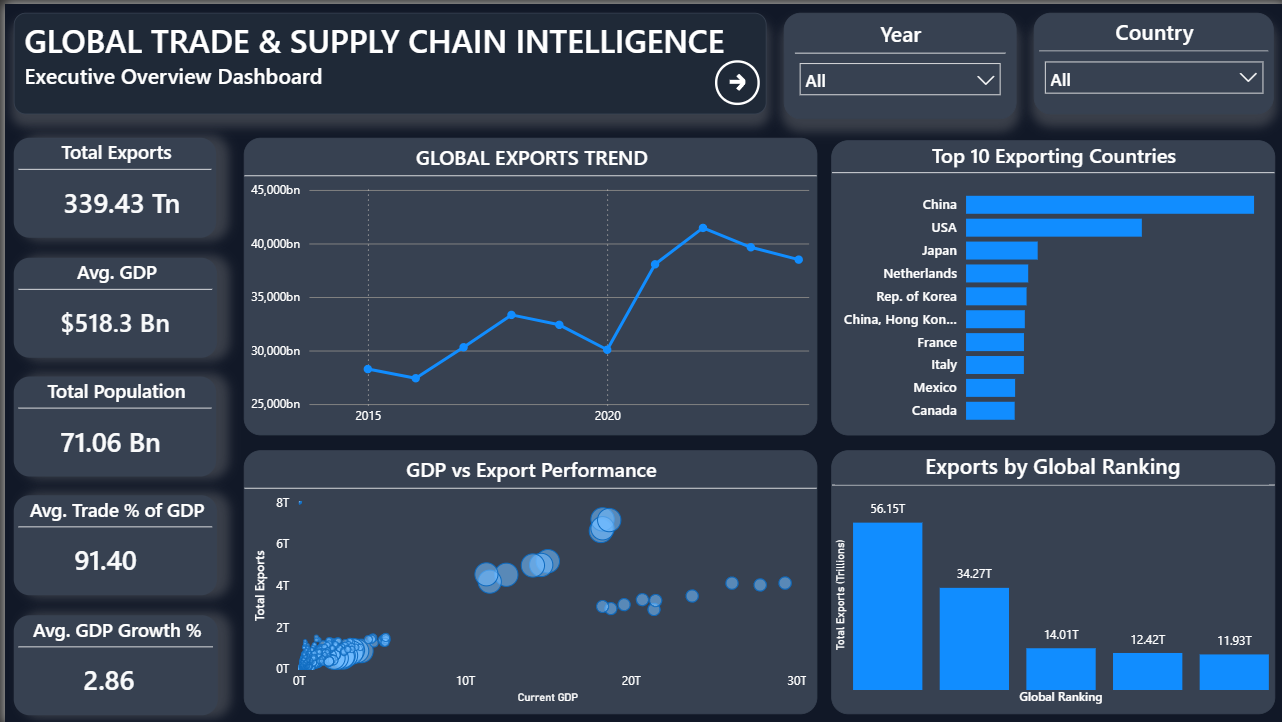

This screenshot's page, from the dashboard's own definition file:
{"tool":"powerbi","page":{"name":"Executive Overview Dashboard","canvas":[1280,720],"ordinal":0},"visuals":[{"type":"group","id":"g1","title":"Group 4","box":[8.8,8.4,1261.2,702],"z":0,"group":"g5"},{"type":"group","id":"g2","title":"Group 2","box":[8.8,8.4,1260,702],"z":0,"group":"g1"},{"type":"textbox","box":[8.8,8.4,752.5,101.2],"z":1000,"group":"g4"},{"type":"actionButton","box":[710,55.9,45,45],"z":1000,"group":"g5"},{"type":"group","id":"g3","title":"Group 3","box":[238.8,133.4,1031.2,576.2],"z":1000,"group":"g1"},{"type":"cardVisual","title":"Total Exports","fields":{"Data":["DAX_Measures.Total_Export_Value"]},"box":[8.8,133.8,202,100],"z":2000,"group":"g2"},{"type":"cardVisual","title":"Avg. Trade % of GDP","fields":{"Data":["DAX_Measures.Avg_Trade_Percent_Of_GDP"]},"box":[8.8,491.3,203.2,100],"z":3000,"group":"g2"},{"type":"cardVisual","title":"Total Population","fields":{"Data":["DAX_Measures.Avg_Population"]},"box":[8.8,372.1,202,100],"z":4000,"group":"g2"},{"type":"cardVisual","title":"Avg. GDP Growth %","fields":{"Data":["DAX_Measures.Avg_GDP_Growth"]},"box":[8.8,610.4,203.8,100],"z":5000,"group":"g2"},{"type":"cardVisual","title":"Avg. GDP","fields":{"Data":["DAX_Measures.Avg_GDP"]},"box":[8.8,253,203.2,100],"z":6000,"group":"g2"},{"type":"lineChart","title":"GLOBAL EXPORTS TREND","fields":{"Category":["vw_dashboard_dataset.reference_year"],"Y":["Sum(vw_dashboard_dataset.total_exports_usd)"]},"box":[238.8,133.4,573.8,297.5],"z":7000,"group":"g3"},{"type":"clusteredBarChart","title":"Top 10 Exporting Countries","fields":{"Category":["vw_dashboard_dataset.reporter_name"],"Y":["Sum(vw_dashboard_dataset.total_exports_usd)"]},"box":[826.3,135.9,443.8,295],"z":8000,"group":"g3"},{"type":"scatterChart","title":"GDP vs Export Performance","fields":{"X":["Sum(vw_dashboard_dataset.gdp_current_usd)"],"Y":["Sum(vw_dashboard_dataset.total_exports_usd)"],"Size":["Sum(vw_dashboard_dataset.population_total)"]},"box":[238.8,445.9,573.8,263.8],"z":9000,"group":"g3"},{"type":"clusteredColumnChart","title":"Exports by Global Ranking","fields":{"Category":["vw_dashboard_dataset.global_export_rank"],"Y":["Sum(vw_dashboard_dataset.total_exports_usd)"]},"box":[826.3,445.9,443.8,263.8],"z":10000,"group":"g3"},{"type":"slicer","title":"Country","fields":{"Values":["DimCountry.reporter_name"]},"box":[1028.8,8.4,240,101.2],"z":11000,"group":"g4"},{"type":"slicer","title":"Year","fields":{"Values":["DimYear.reference_year"]},"box":[778.8,8.4,232.5,106.2],"z":12000,"group":"g4"},{"type":"group","id":"g4","title":"Group 1","box":[8.8,8.4,1260,106.2],"z":12001,"group":"g2"},{"type":"group","id":"g5","title":"Group 5","box":[8.8,8.4,1260.9,701.1],"z":12006}]}

Visuals, with their boxes in screenshot pixels (x1, y1, x2, y2), scaled from the page's 1280x720 canvas onto the 1282x722 screenshot:
"Group 4" group: 9:8:1272:712
"Group 2" group: 9:8:1271:712
textbox: 9:8:762:110
actionButton: 711:56:756:101
"Group 3" group: 239:134:1272:712
"Total Exports" cardVisual: 9:134:211:234
"Avg. Trade % of GDP" cardVisual: 9:493:212:593
"Total Population" cardVisual: 9:373:211:473
"Avg. GDP Growth %" cardVisual: 9:612:213:712
"Avg. GDP" cardVisual: 9:254:212:354
"GLOBAL EXPORTS TREND" lineChart: 239:134:814:432
"Top 10 Exporting Countries" clusteredBarChart: 828:136:1272:432
"GDP vs Export Performance" scatterChart: 239:447:814:712
"Exports by Global Ranking" clusteredColumnChart: 828:447:1272:712
"Country" slicer: 1030:8:1271:110
"Year" slicer: 780:8:1013:115
"Group 1" group: 9:8:1271:115
"Group 5" group: 9:8:1272:711
